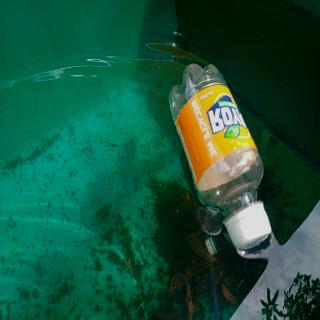bottle: (168, 58, 272, 256)
